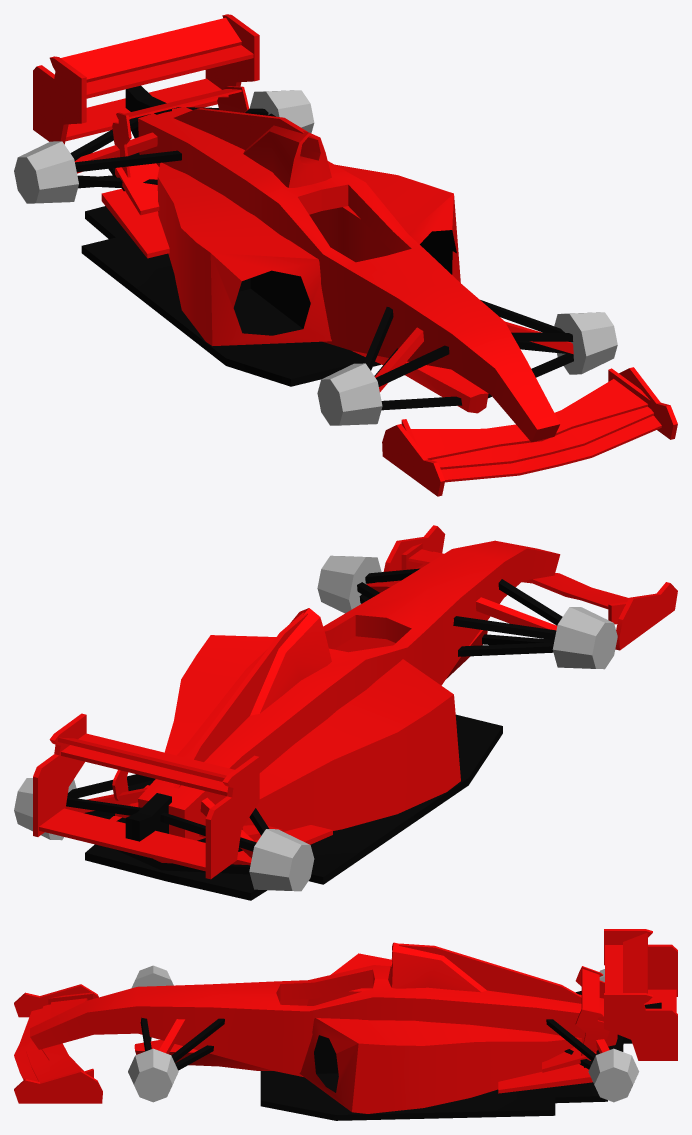
Rendered from car_simple.gltf.
3 renders of one model, top to bottom at view 1: azimuth 30°, elevation 25°; view 2: azimuth 150°, elevation 25°; view 3: azimuth 270°, elevation 25°, orthographic. The views are drawn at different scales.
Visible parts, largest first — view 1: car_low, car_frame; view 2: car_low, car_frame; view 3: car_low, car_frame.
Boxes of the visible parts, bbox=[...] form: car_low: bbox=[14, 14, 677, 496]; car_frame: bbox=[70, 107, 573, 410]; car_low: bbox=[14, 525, 677, 900]; car_frame: bbox=[65, 568, 562, 874]; car_low: bbox=[14, 929, 677, 1120]; car_frame: bbox=[140, 991, 625, 1070].
Bounding box in the file's own units: 1.57 × 0.9611 × 4.33.
Materials: 3 (1 with a texture image).
